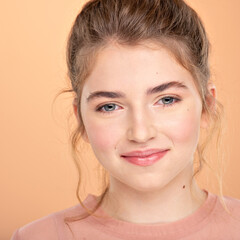teen: (70, 4, 213, 197)
